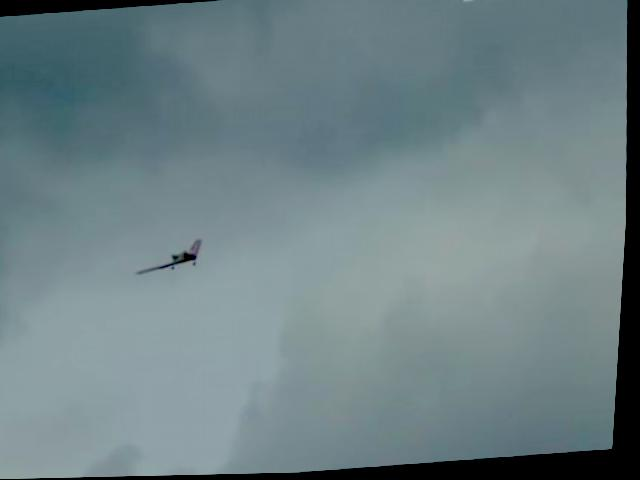flying wing: (135, 237, 211, 283)
